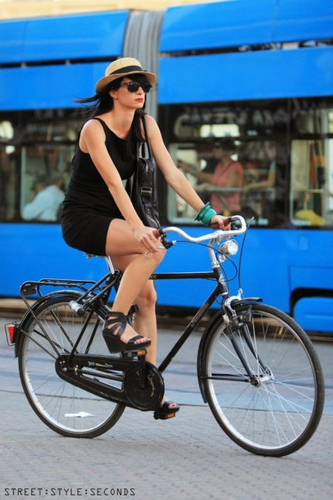bikerider: (19, 51, 333, 465)
